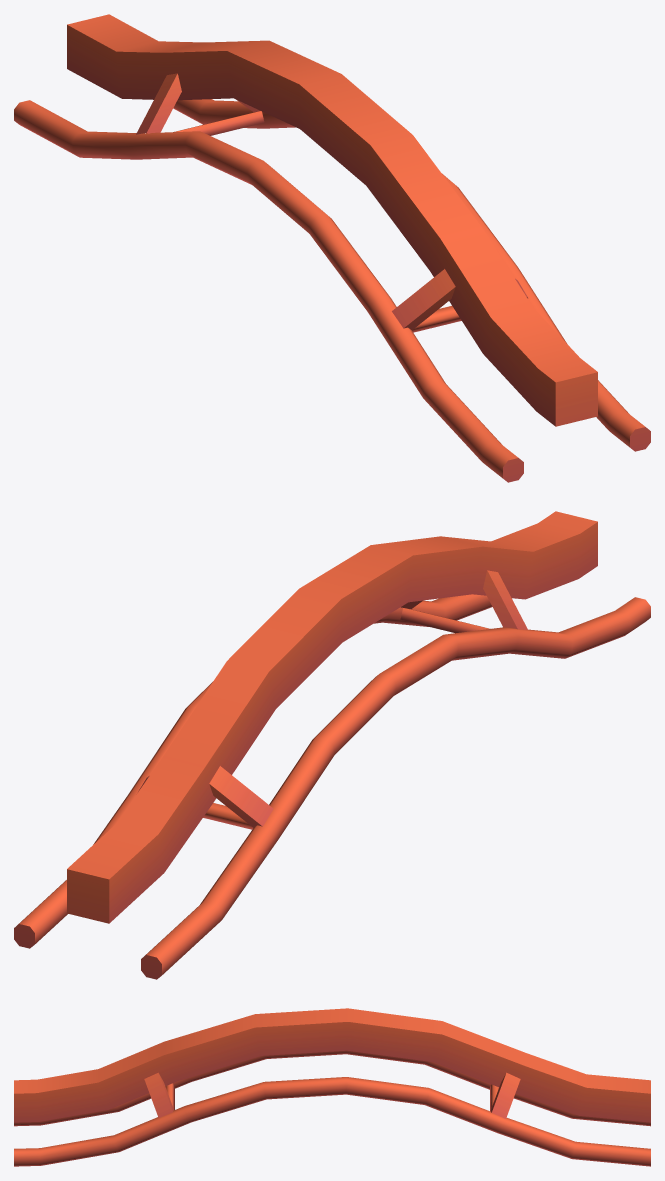
File: kenney-coaster-coaster-hanging-straight-bump-up.glb
The picture shows the model from 3 angles, top to bottom: view 1: azimuth 30°, elevation 25°; view 2: azimuth 150°, elevation 25°; view 3: azimuth 270°, elevation 25°; orthographic projection. The views are drawn at different scales.
Parts seen in each view (by area): view 1: coaster-hanging-straight-bump-up; view 2: coaster-hanging-straight-bump-up; view 3: coaster-hanging-straight-bump-up.
Boxes of the visible parts, x1,y1,x2,y2 form: coaster-hanging-straight-bump-up: [14, 14, 650, 482]; coaster-hanging-straight-bump-up: [14, 511, 650, 979]; coaster-hanging-straight-bump-up: [14, 1008, 650, 1166].
Bounding box in the file's own units: 0.6997 × 0.8985 × 4.
1 material, 1 textured.
